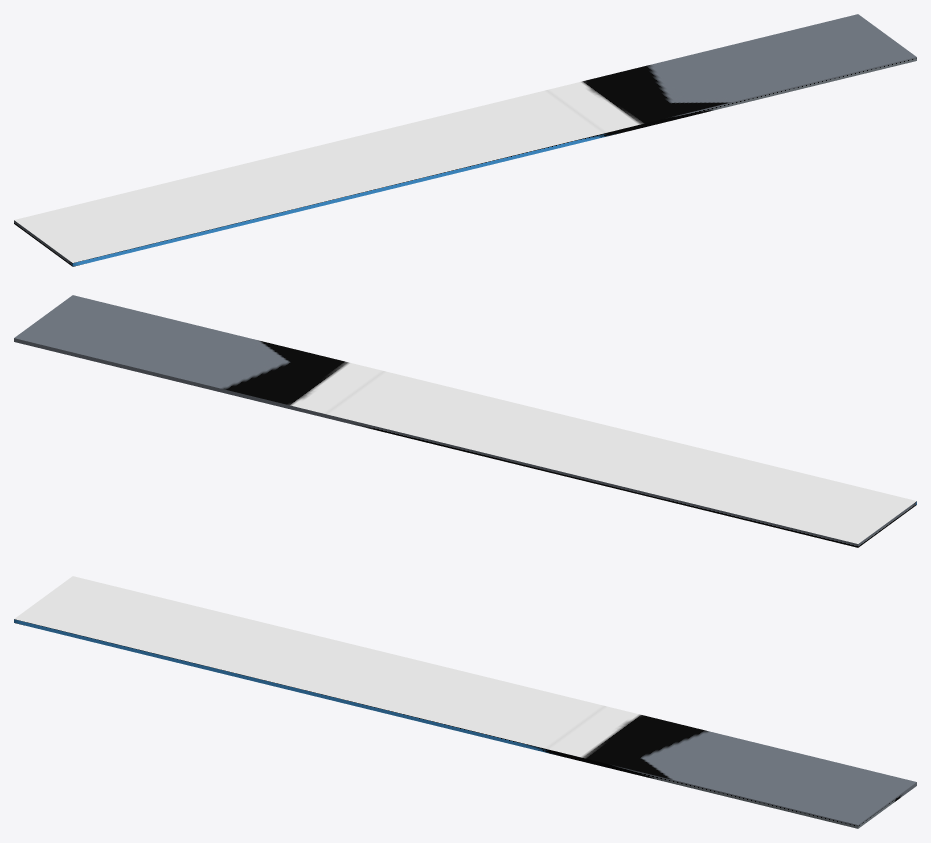
Rendered from PanelSuperior32m.glb.
The picture shows the model from 3 angles, top to bottom: view 1: azimuth 30°, elevation 25°; view 2: azimuth 150°, elevation 25°; view 3: azimuth 330°, elevation 25°; orthographic projection.
Parts seen in each view (by area): view 1: Cube; view 2: Cube; view 3: Cube.
Part boxes in pixels (x1=…): Cube: x1=14, y1=14, x2=916, y2=266; Cube: x1=14, y1=295, x2=916, y2=547; Cube: x1=14, y1=576, x2=916, y2=828.
Bounding box in the file's own units: 32.01 × 0.3994 × 3.86.
Materials: 3 (1 with a texture image).
